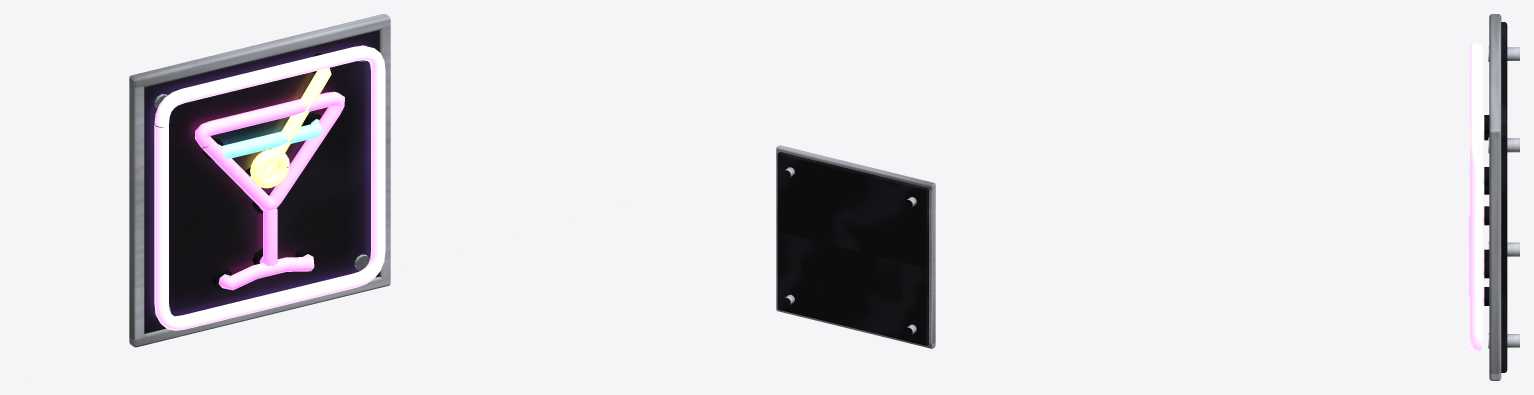
File: prop_neonCocktail.glb
The picture shows the model from 3 angles, left to right: view 1: azimuth 30°, elevation 25°; view 2: azimuth 150°, elevation 25°; view 3: azimuth 270°, elevation 25°; orthographic projection. The views are drawn at different scales.
Visible parts, largest first — view 1: prop; view 2: prop; view 3: prop.
Boxes of the visible parts, <box> form: prop: <box>129,14,390,347</box>; prop: <box>776,145,935,348</box>; prop: <box>1469,14,1519,380</box>.
Bounding box in the file's own units: 1 × 0.6 × 1.
Materials: 12 (4 with a texture image).
